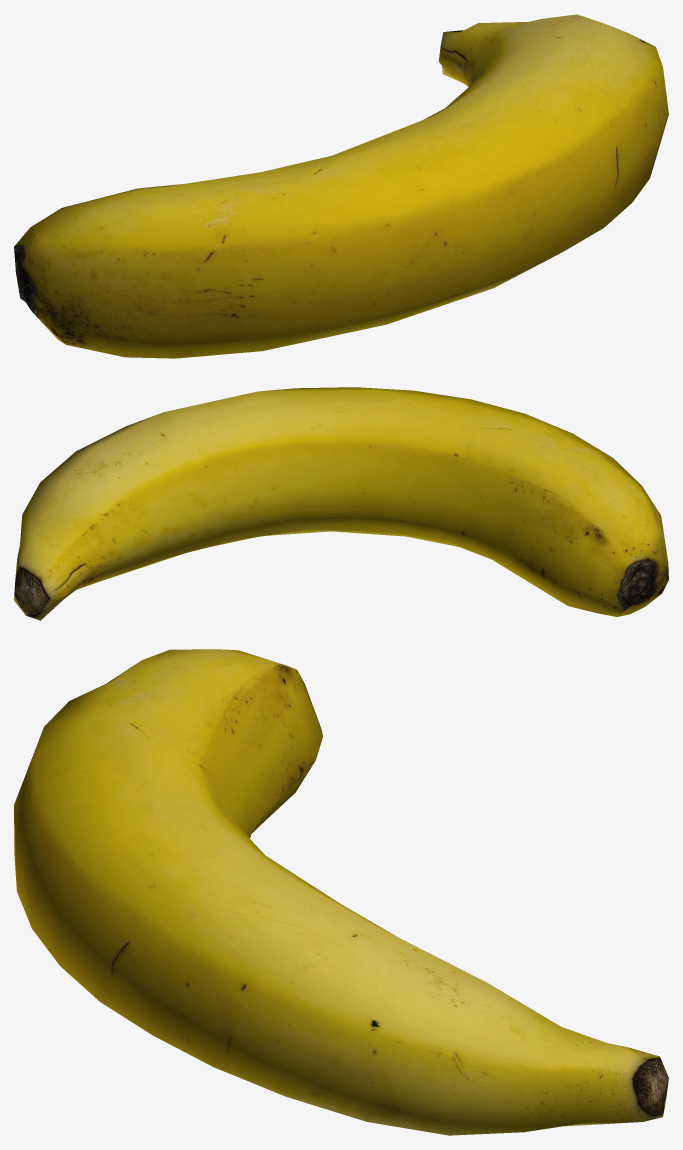
File: realbanana.glb
3 renders of one model, top to bottom at view 1: azimuth 30°, elevation 25°; view 2: azimuth 150°, elevation 25°; view 3: azimuth 270°, elevation 25°, orthographic. The views are drawn at different scales.
Visible parts, largest first — view 1: Banana; view 2: Banana; view 3: Banana.
Part boxes in pixels (bbox=[...]): Banana: bbox=[14, 14, 668, 358]; Banana: bbox=[14, 387, 668, 620]; Banana: bbox=[14, 649, 668, 1135].
Size of the model in its own units: 0.19 by 0.0438 by 0.1357.
1 material, 1 textured.
